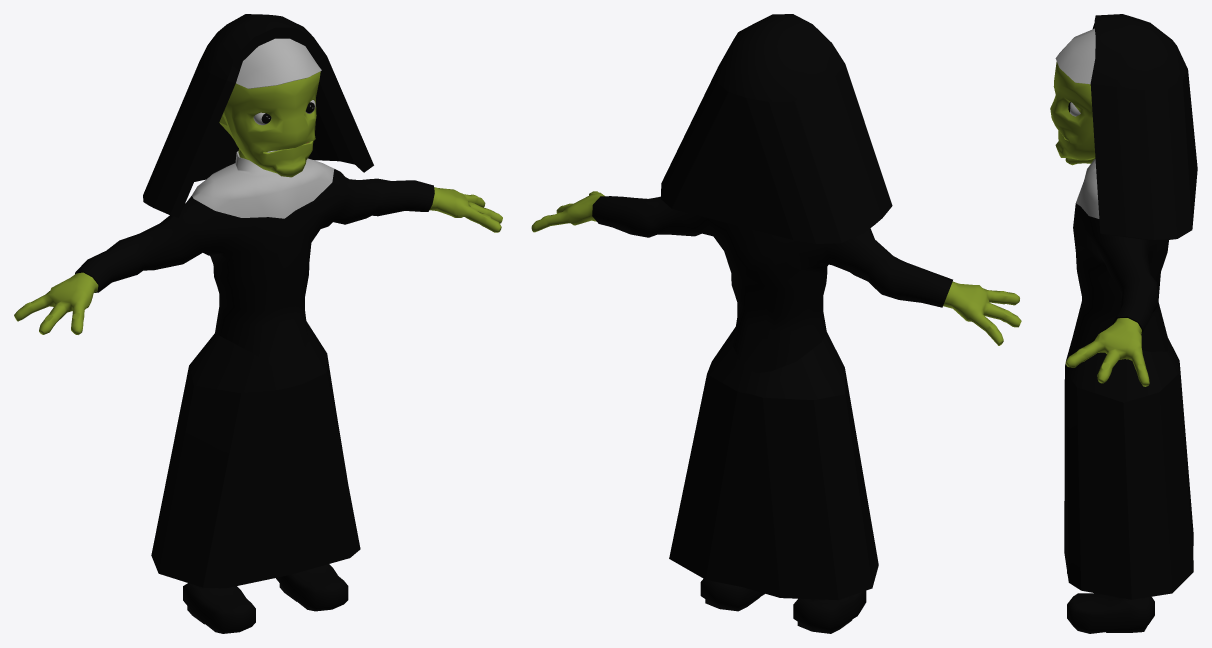
The model's file is Nun_Base.fbx.
3 views of the same model, side by side, from view 1: azimuth 30°, elevation 25°; view 2: azimuth 150°, elevation 25°; view 3: azimuth 270°, elevation 25° (orthographic).
Parts seen in each view (by area): view 1: Nun_Body; view 2: Nun_Body; view 3: Nun_Body.
Part boxes in pixels (x1,y1,x2,y2): Nun_Body: [14, 14, 502, 633]; Nun_Body: [531, 14, 1021, 633]; Nun_Body: [1050, 14, 1197, 633].
Size of the model in its own units: 67.75 by 81.17 by 18.56.
